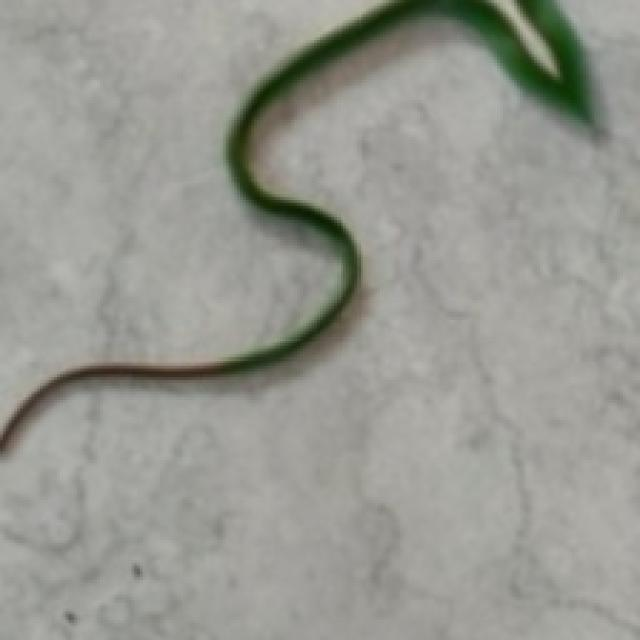red-tailed green ratsnake: (0, 0, 591, 449)
